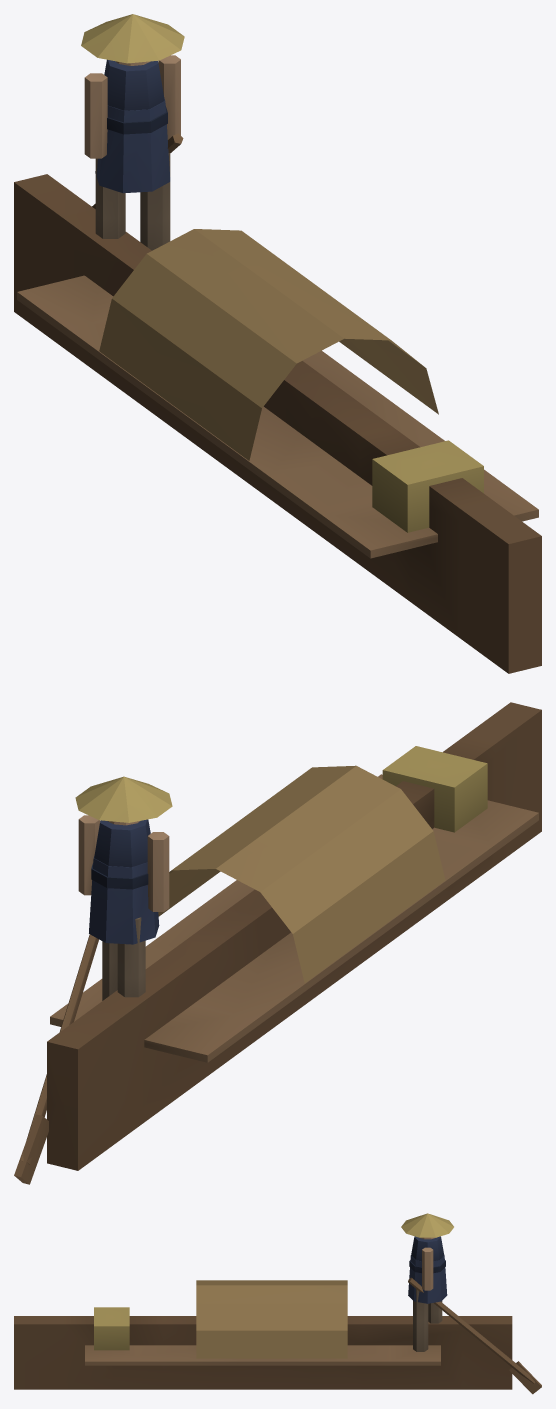
Rendered from skiff.glb.
3 renders of one model, top to bottom at view 1: azimuth 30°, elevation 25°; view 2: azimuth 150°, elevation 25°; view 3: azimuth 270°, elevation 25°, orthographic. The views are drawn at different scales.
Parts seen in each view (by area): view 1: base; view 2: base; view 3: base.
Part boxes in pixels (box(x1,y1,x2,y2)): base: box(14, 14, 541, 673); base: box(14, 702, 541, 1184); base: box(14, 1213, 541, 1394).
Size of the model in its own units: 1.24 by 2.24 by 5.93.
